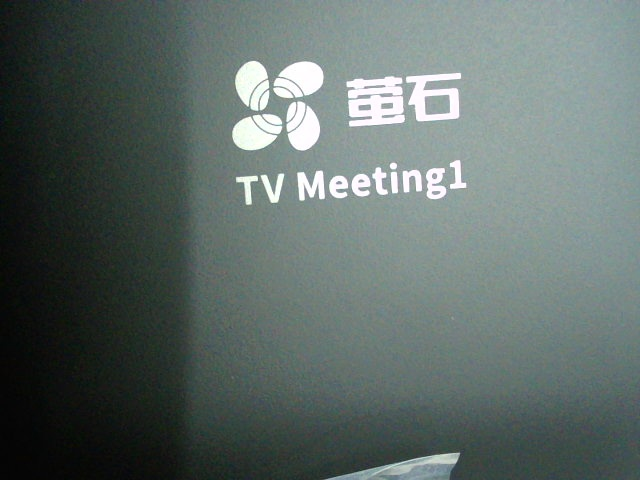BA_Yingshi: (228, 59, 478, 209)
